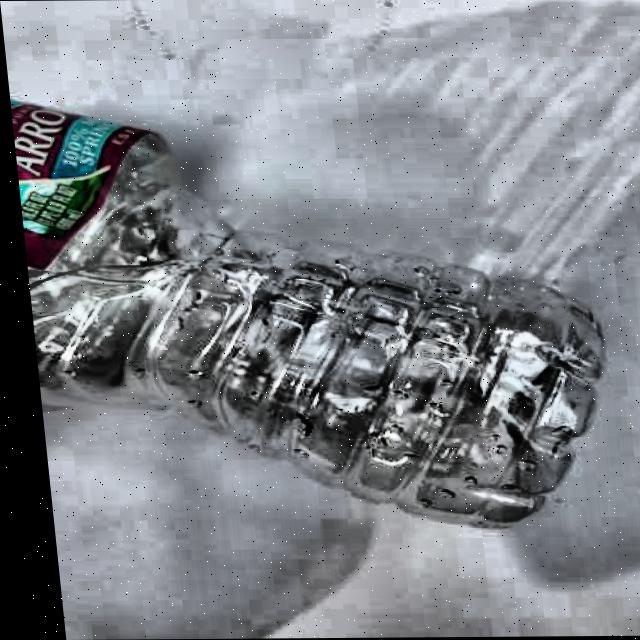plastic: (10, 91, 629, 530)
